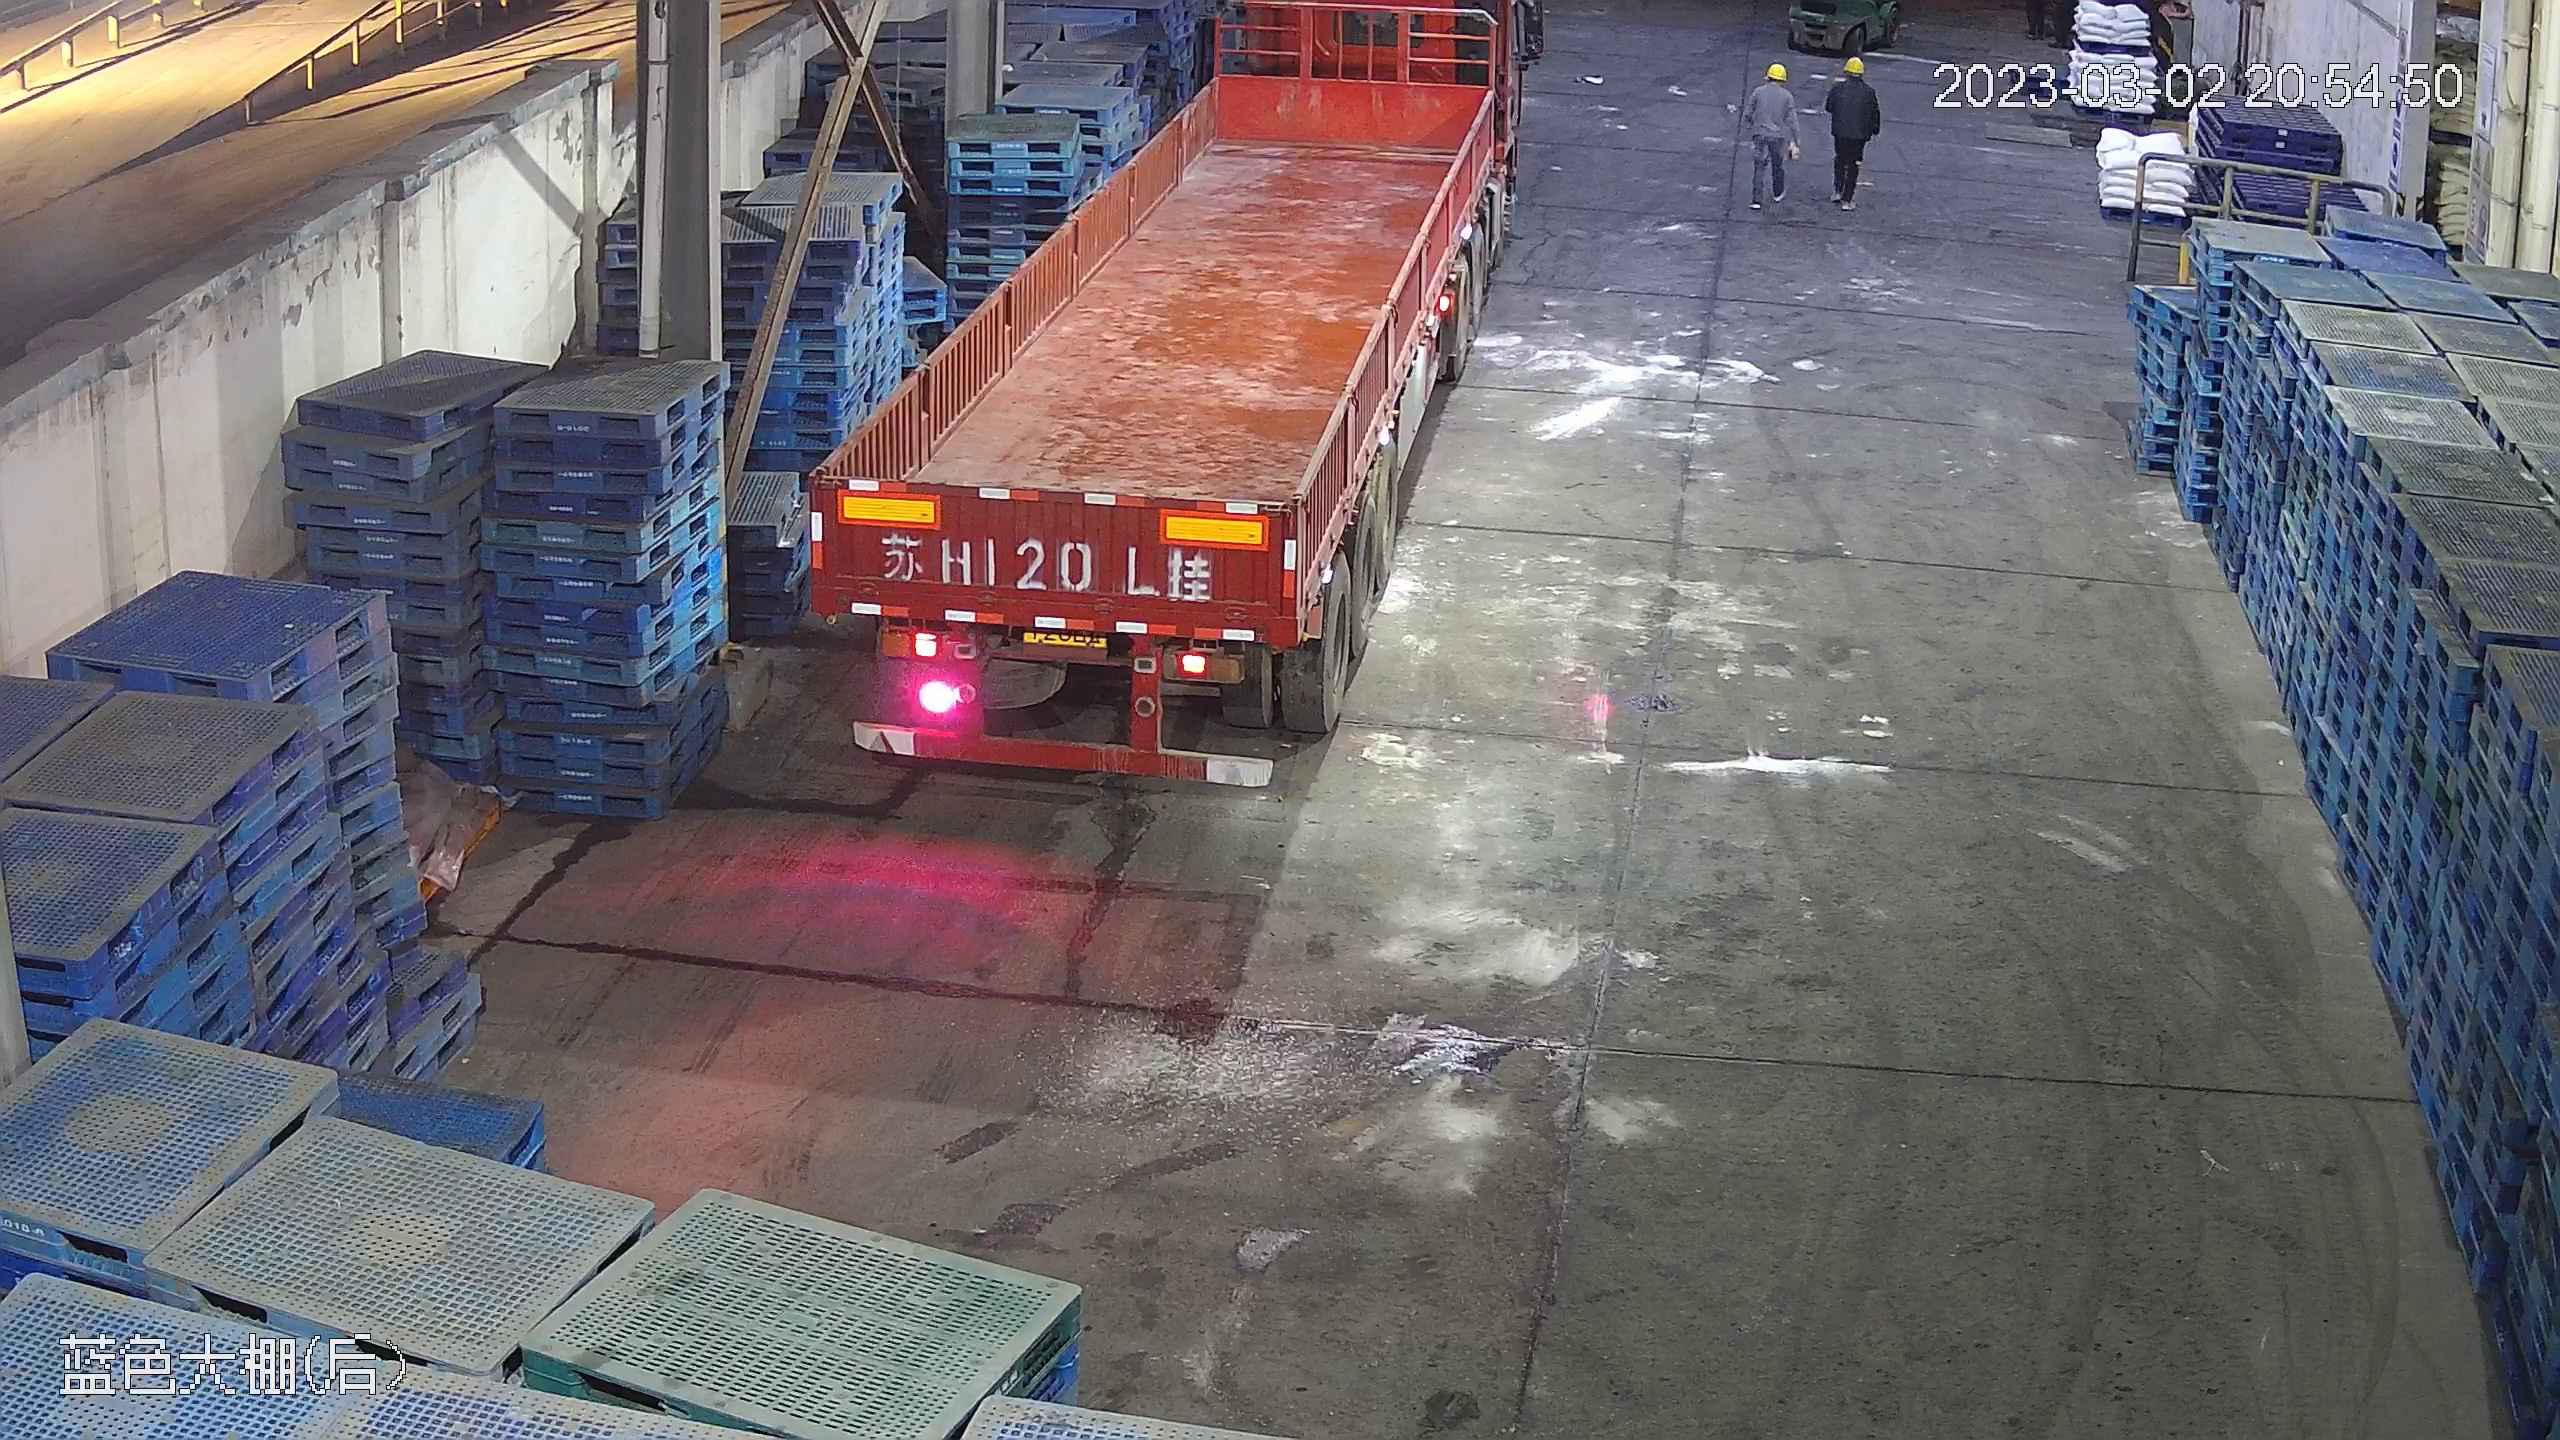head: (1829, 57, 1877, 100), (1754, 62, 1796, 106)
helmet: (1832, 55, 1874, 96), (1760, 61, 1787, 83)
people: (1824, 53, 1881, 204), (1742, 59, 1799, 207)
truck: (797, 4, 1530, 785)
